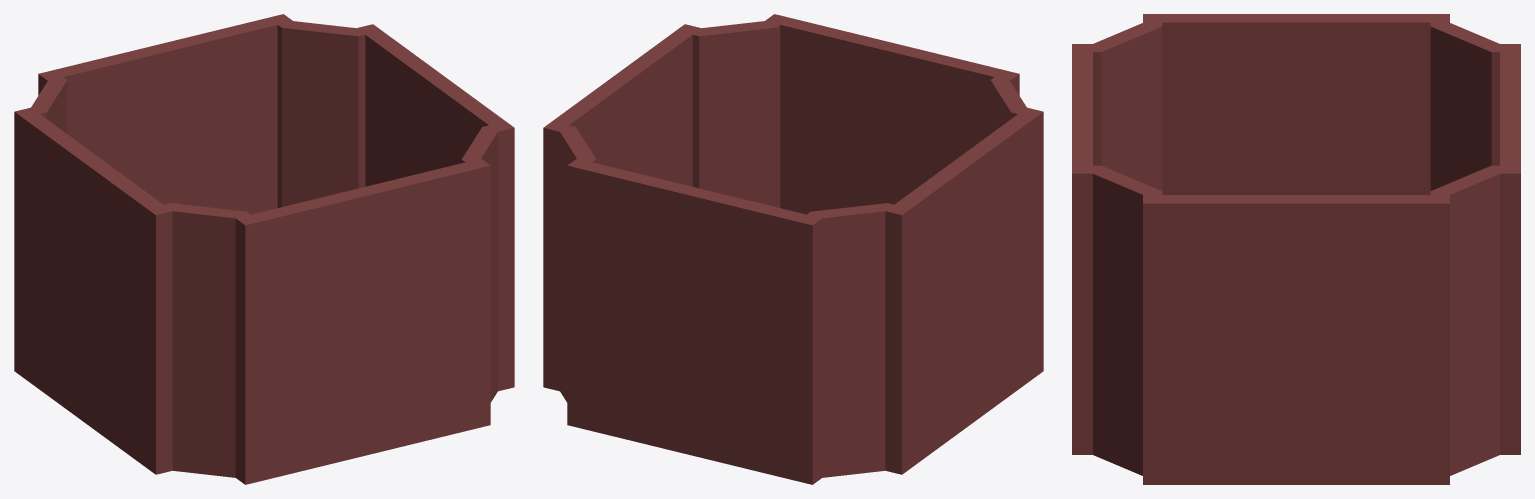
Rendered from V5_Tunnel Vertical.obj.
3 views of the same model, side by side, from view 1: azimuth 30°, elevation 25°; view 2: azimuth 150°, elevation 25°; view 3: azimuth 270°, elevation 25° (orthographic). The views are drawn at different scales.
Parts seen in each view (by area): view 1: Solid1:33; view 2: Solid1:33; view 3: Solid1:33.
Part boxes in pixels (box(x1,y1,x2,y2)): Solid1:33: box(14, 14, 514, 484); Solid1:33: box(543, 14, 1043, 484); Solid1:33: box(1072, 14, 1520, 484).
Size of the model in its own units: 49.65 by 34.33 by 49.65.
